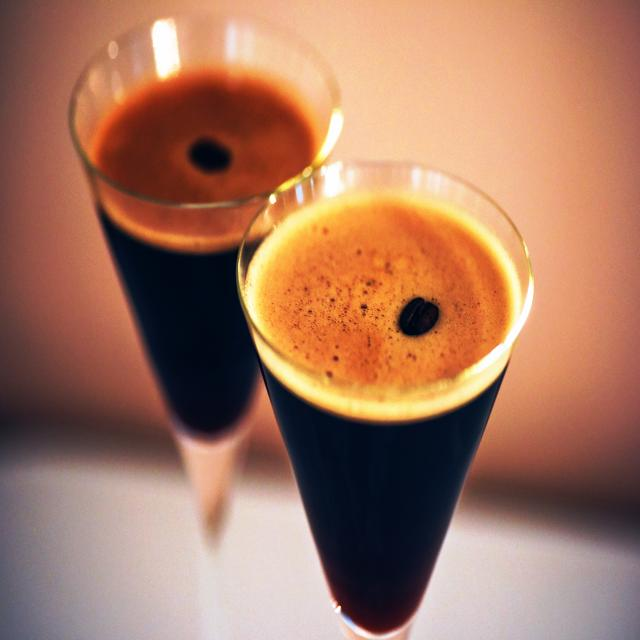drink: (233, 161, 530, 639), (67, 7, 338, 448)
